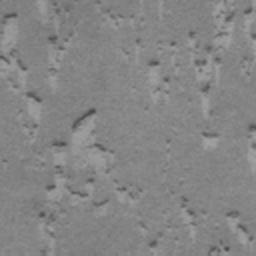Oxide scale of temperature system: (0, 0, 143, 256), (146, 0, 256, 171), (147, 195, 198, 248), (207, 209, 255, 256), (92, 71, 107, 91), (102, 6, 125, 19)
